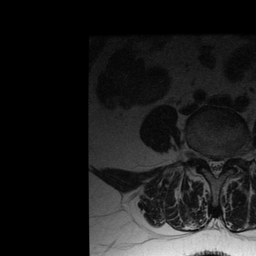CCS_normal: (213, 153, 218, 184)
LFS_severe_stenosis: (225, 147, 232, 169)
LLS_stenosis: (218, 155, 224, 174)
RFS_stenosis: (199, 148, 207, 167)
RLS_stenosis: (207, 153, 213, 174)
